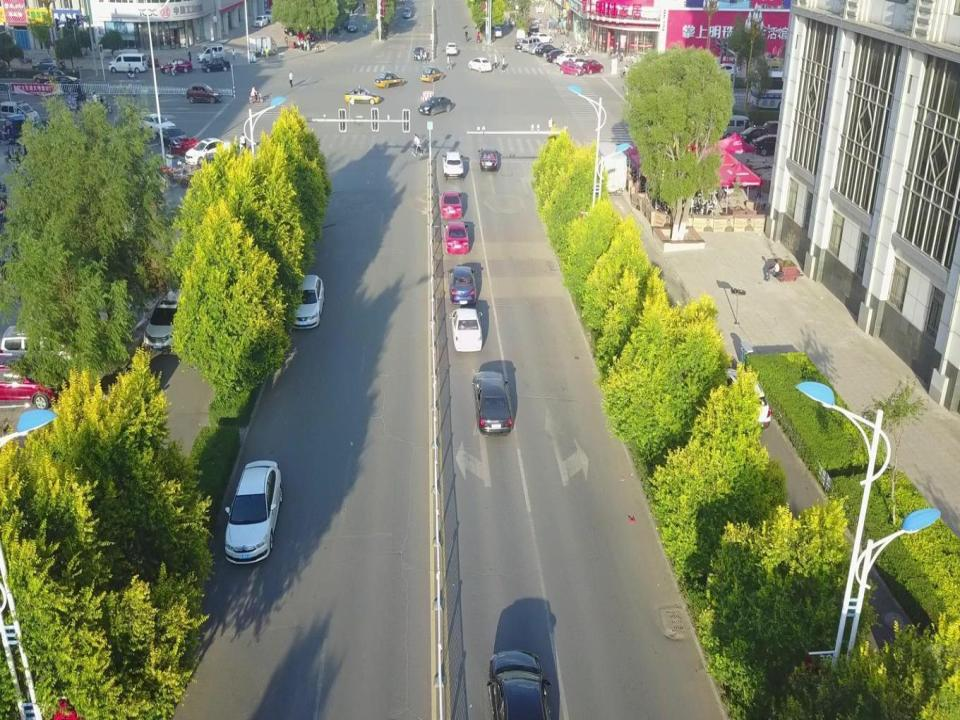bus: (749, 71, 815, 107)
car: (225, 461, 280, 564), (142, 288, 194, 351), (474, 371, 513, 435), (291, 274, 325, 330), (450, 309, 482, 353), (186, 136, 230, 168), (450, 267, 476, 307), (443, 220, 470, 253), (751, 133, 788, 157), (184, 82, 224, 102), (139, 114, 173, 135), (418, 95, 452, 116), (157, 126, 187, 149), (39, 76, 82, 92), (439, 190, 461, 220), (442, 150, 464, 180), (344, 89, 379, 105), (740, 127, 772, 144), (375, 72, 406, 88), (710, 65, 737, 83), (32, 58, 66, 72), (202, 57, 230, 74), (160, 60, 192, 74), (284, 20, 312, 36), (33, 70, 64, 84), (478, 148, 498, 169), (559, 60, 585, 76), (467, 56, 492, 72), (420, 68, 443, 84), (556, 52, 579, 68), (546, 49, 568, 63), (583, 58, 604, 72), (536, 44, 557, 57), (531, 33, 553, 45), (529, 42, 547, 54), (446, 40, 458, 55), (253, 15, 269, 26), (414, 46, 425, 60), (528, 26, 539, 38), (346, 21, 358, 31), (492, 26, 502, 38), (402, 7, 412, 18), (515, 38, 524, 50)
truck: (248, 36, 278, 54)
van: (1, 324, 90, 374), (0, 98, 40, 125), (712, 116, 750, 141), (108, 54, 147, 74), (197, 42, 224, 64), (522, 36, 542, 52), (514, 29, 524, 44)
